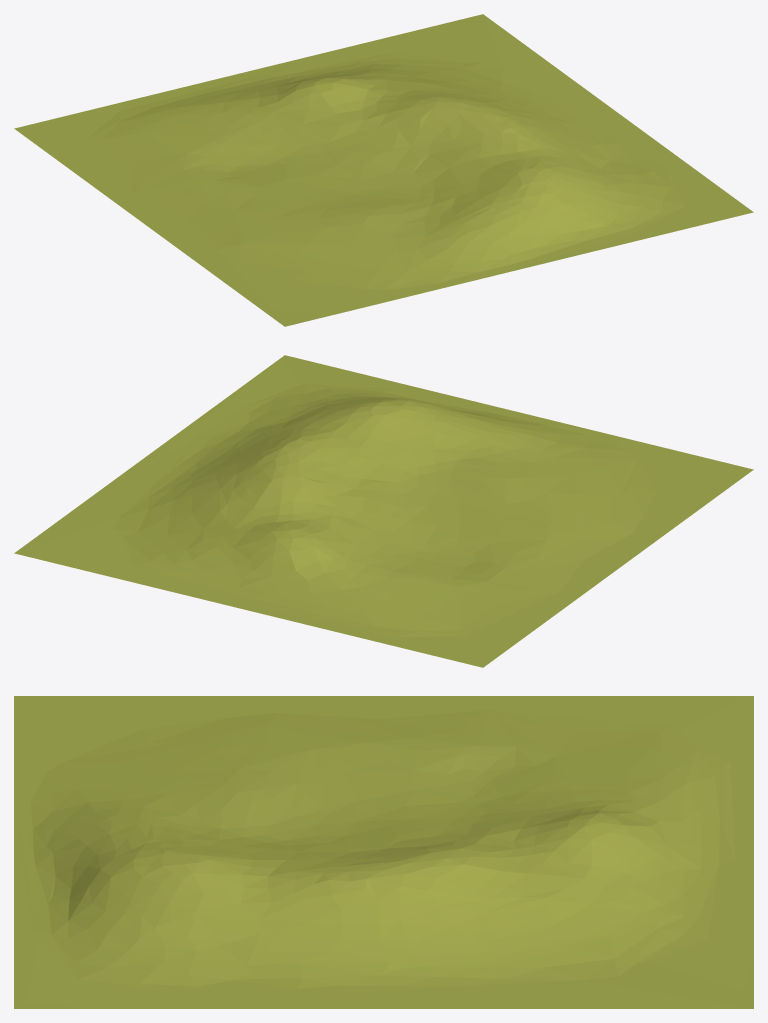
Rendered from Terrain_36.glb.
3 views of the same model, one above another, from view 1: azimuth 30°, elevation 25°; view 2: azimuth 150°, elevation 25°; view 3: azimuth 270°, elevation 25° (orthographic). The views are drawn at different scales.
Parts seen in each view (by area): view 1: Terrain_36; view 2: Terrain_36; view 3: Terrain_36.
Boxes of the visible parts, box(x1,y1,x2,y2) form: Terrain_36: box(14, 14, 753, 326); Terrain_36: box(14, 355, 753, 667); Terrain_36: box(14, 696, 753, 1008).
Bounding box in the file's own units: 128 × 8.88 × 128.
Materials: 1 (1 with a texture image).
